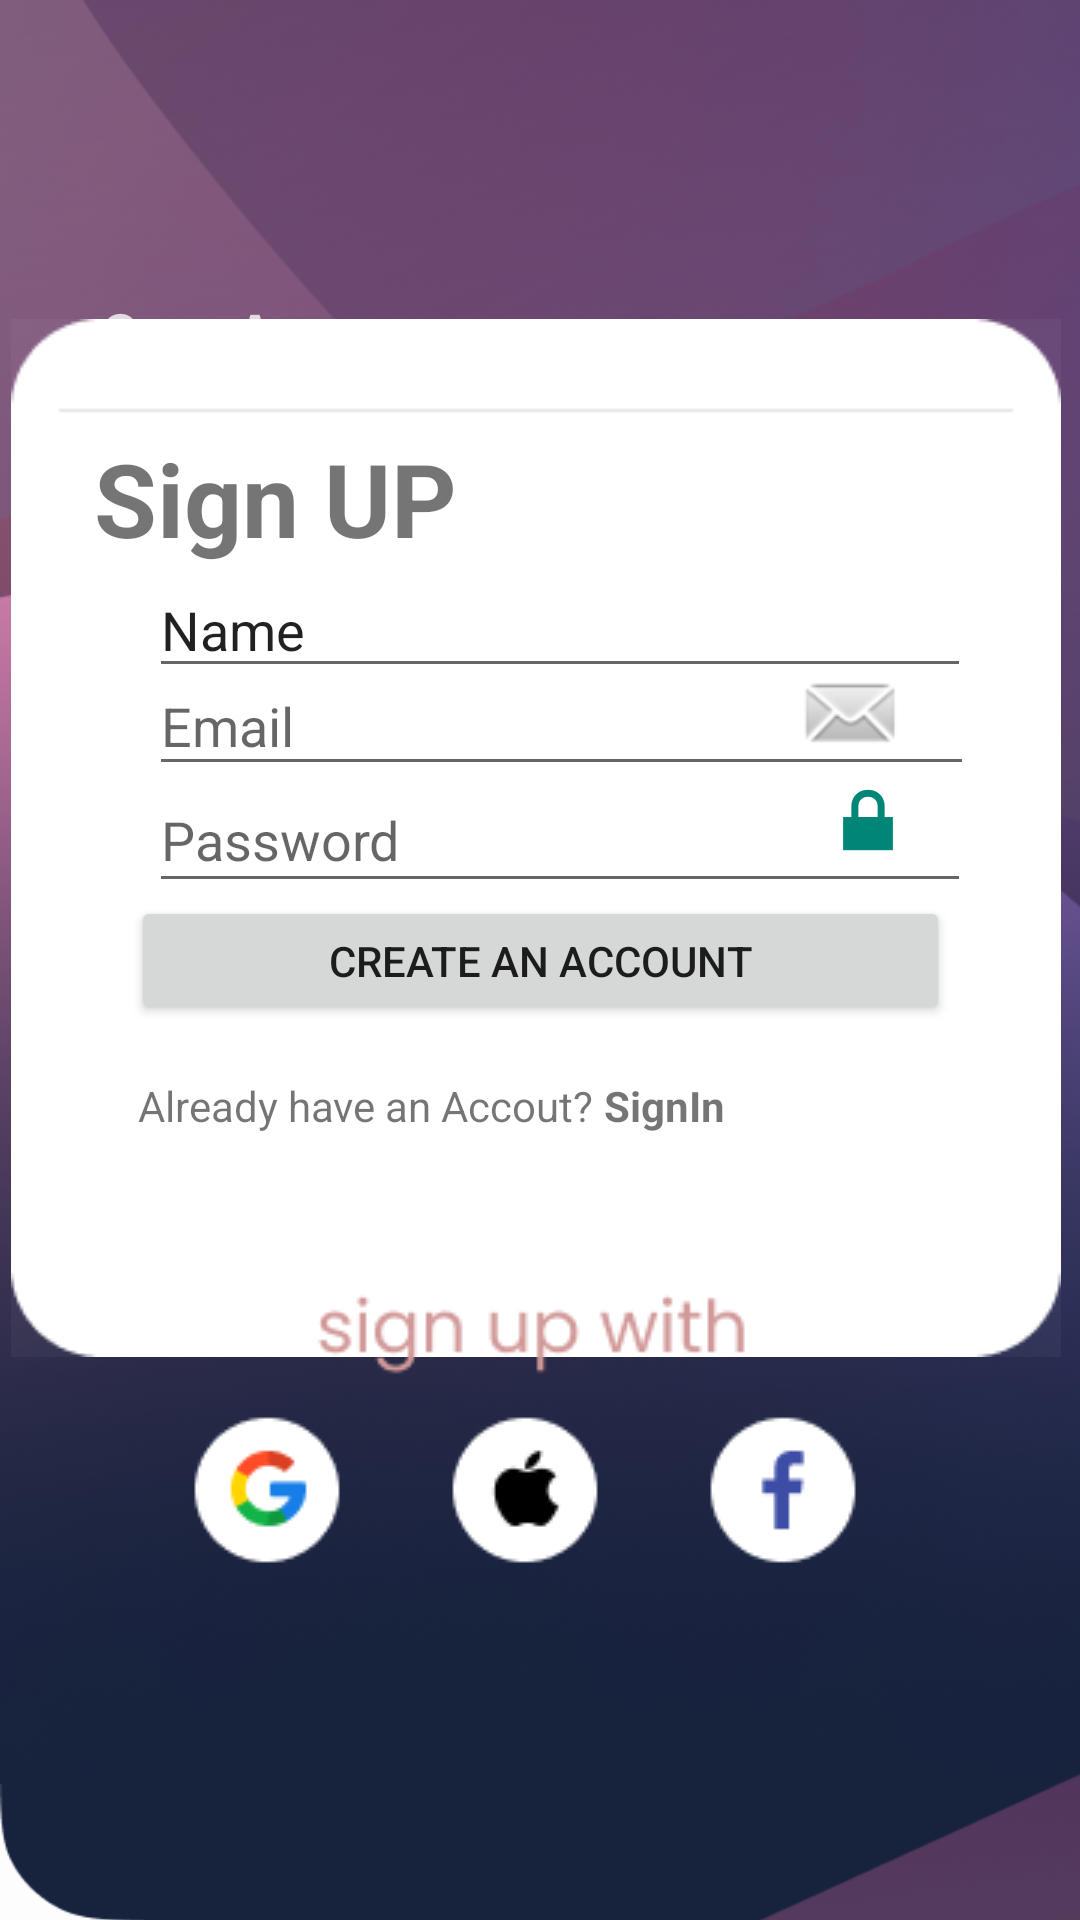

Icon click points for this 1080*1920 phone screenshot, format (x=x, y=y):
lock: (x=868, y=820)
